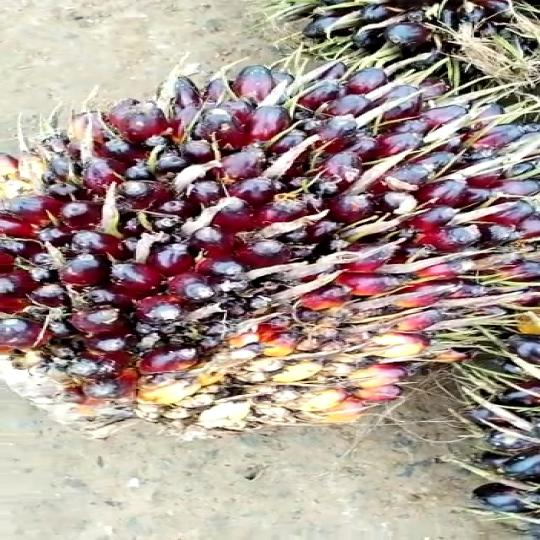mentah: (1, 56, 540, 434)
